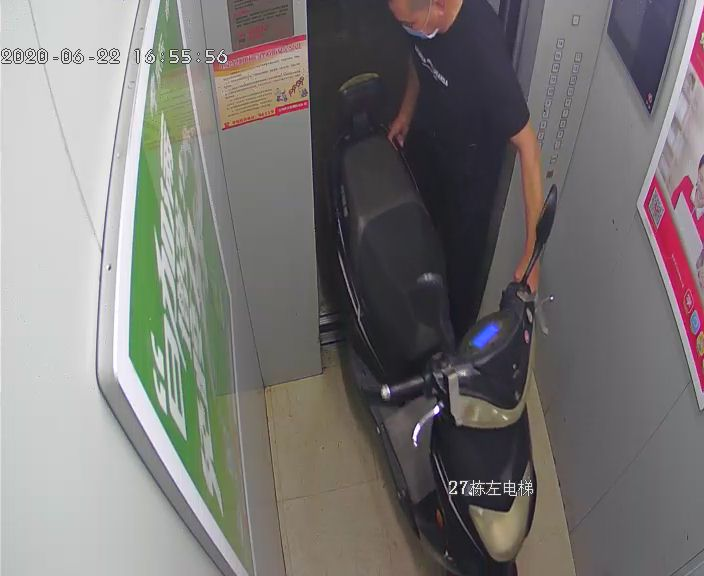Electric-bicycle: (329, 71, 563, 576)
